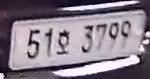1: (43, 25, 55, 60)
3: (80, 24, 95, 56)
5: (26, 27, 42, 60)
7: (95, 21, 109, 51)
9: (120, 19, 133, 50), (109, 21, 120, 53)
호: (56, 27, 72, 57)
